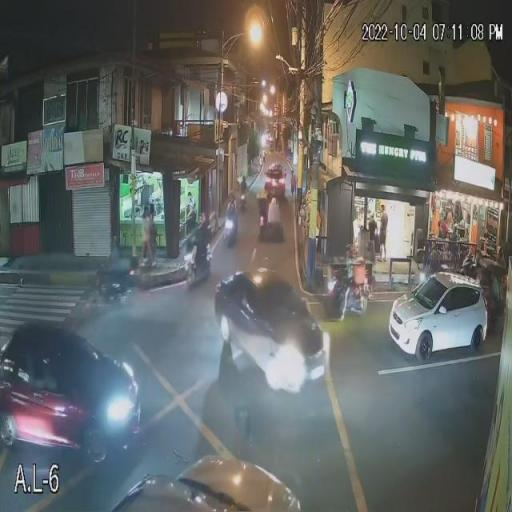helmet: (341, 240, 358, 260)
motorcycle: (318, 273, 372, 318)
rider: (339, 255, 360, 325)
